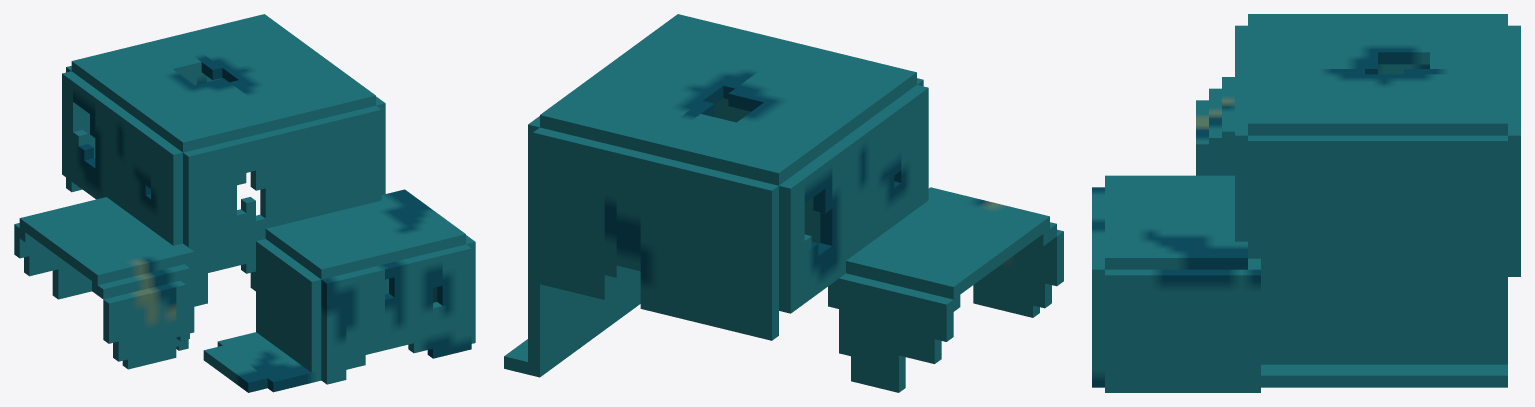
File: Crate_DrapeBlue_00.fbx
The picture shows the model from 3 angles, left to right: view 1: azimuth 30°, elevation 25°; view 2: azimuth 150°, elevation 25°; view 3: azimuth 270°, elevation 25°; orthographic projection. The views are drawn at different scales.
Visible parts, largest first — view 1: Crate_DrapeBlue_00; view 2: Crate_DrapeBlue_00; view 3: Crate_DrapeBlue_00.
Boxes of the visible parts, x1,y1,x2,y2 form: Crate_DrapeBlue_00: (14,14,475,392); Crate_DrapeBlue_00: (504,14,1063,392); Crate_DrapeBlue_00: (1092,14,1520,392).
Size of the model in its own units: 170 by 105 by 165.
